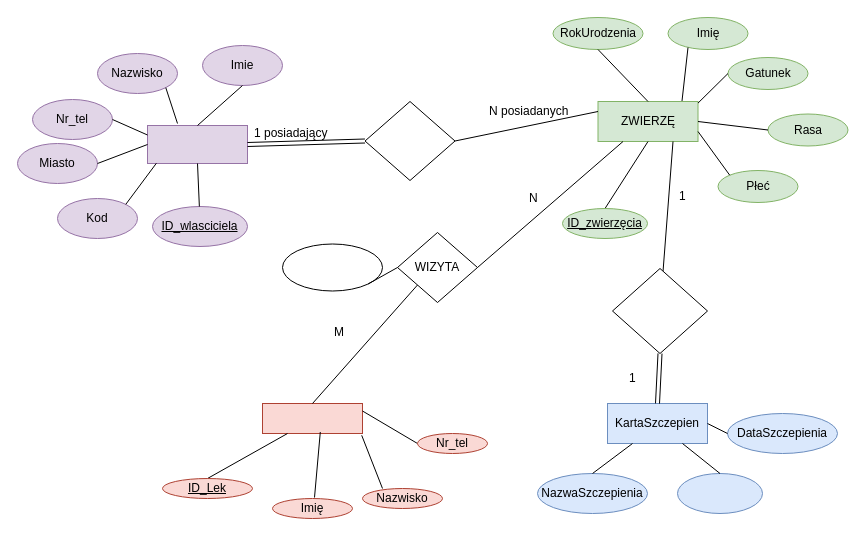
The diagram is 866 pixels wide and 536 high, and some of its shapes have lost their labels. Each missing label, with the centre of its shape:
DataWizyty: (x=332, y=267)
ID_karty: (x=719, y=493)
LEKARZ: (x=312, y=418)
POSIADA: (x=409, y=140)
SZCZEPIENIE: (x=660, y=311)
WŁAŚCICIEL: (x=197, y=144)
